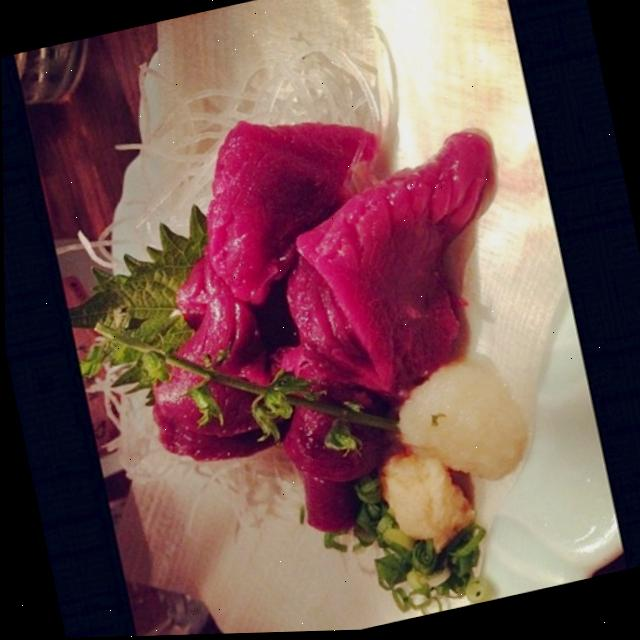刺身生食: (84, 64, 552, 573)
